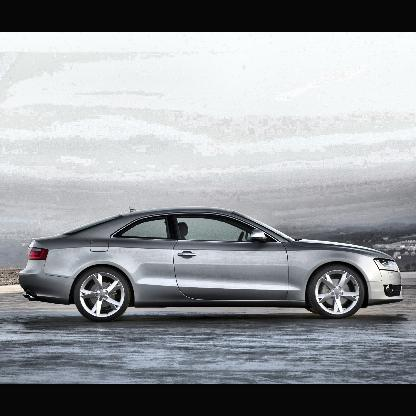Audi A5 Coupe 2012: (17, 209, 407, 320)
